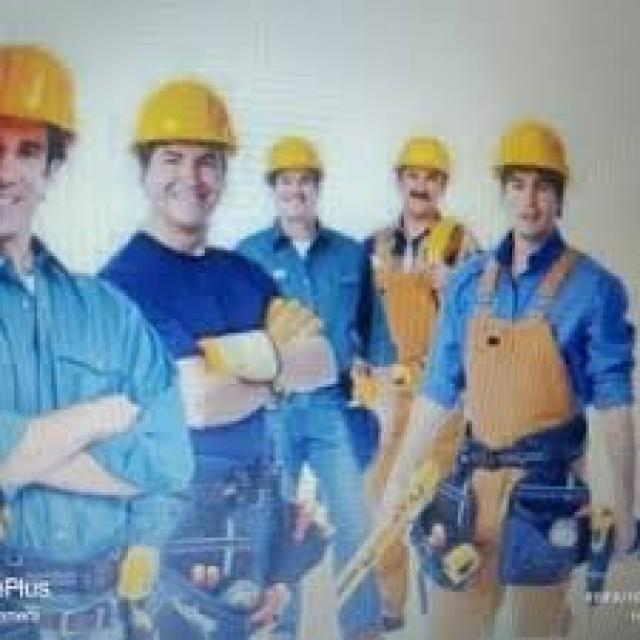Safety-Helmet: (125, 66, 248, 162), (0, 31, 94, 145), (483, 108, 578, 188), (258, 125, 336, 185), (384, 128, 461, 185)
